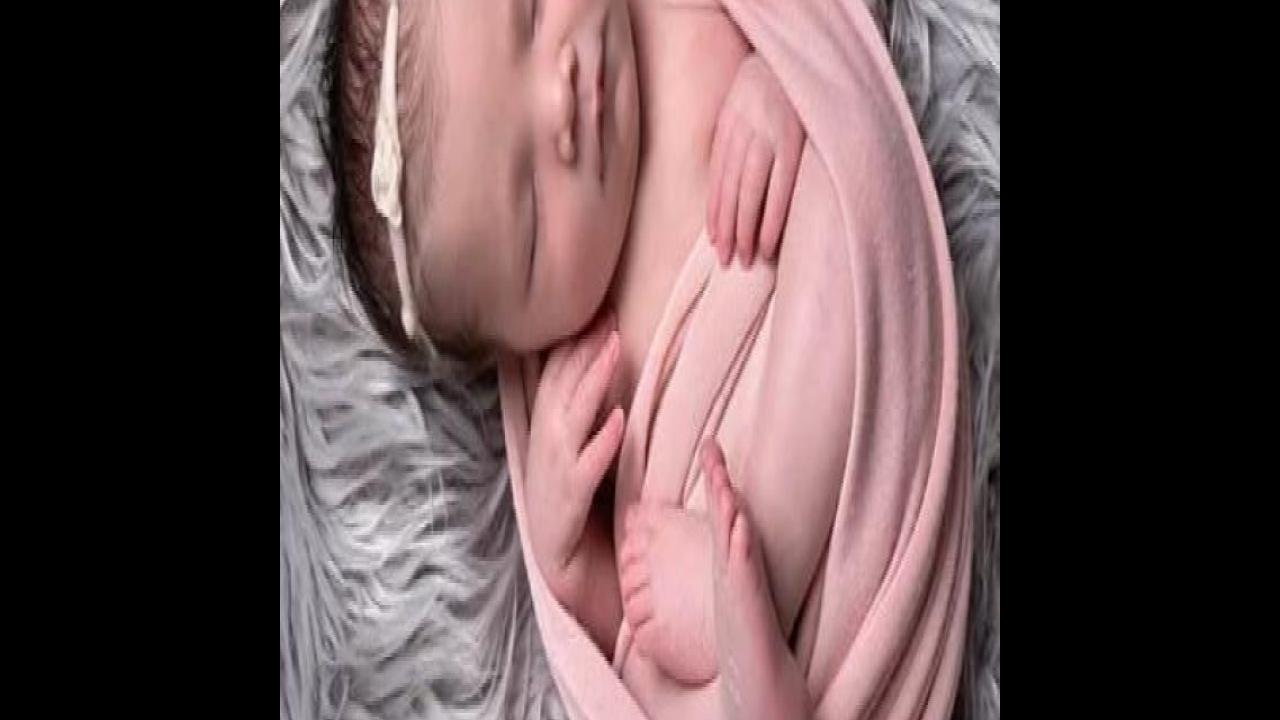hand: (524, 301, 626, 571), (704, 52, 810, 266)
